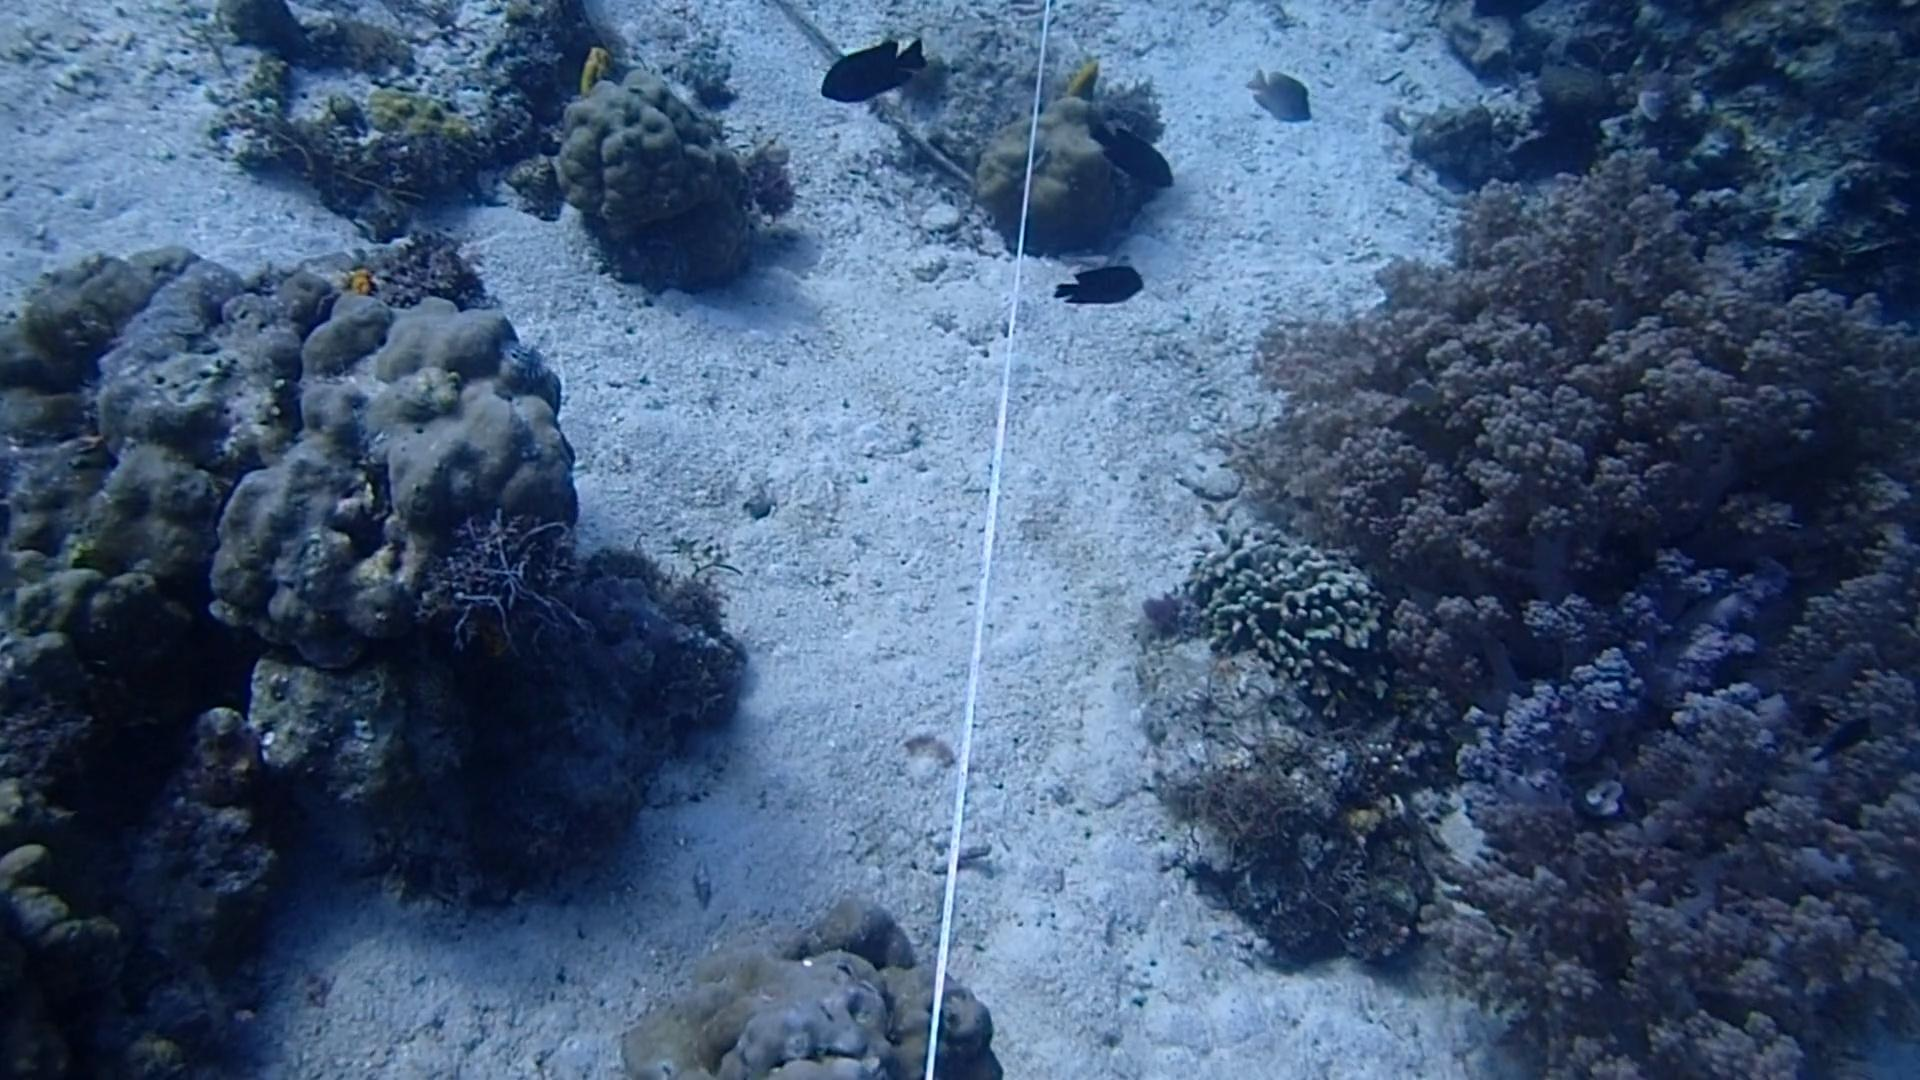Dark Fish: (804, 30, 932, 109), (1083, 116, 1178, 198), (1799, 696, 1882, 770), (1048, 264, 1150, 311)
Light Fish: (1238, 55, 1317, 132)
